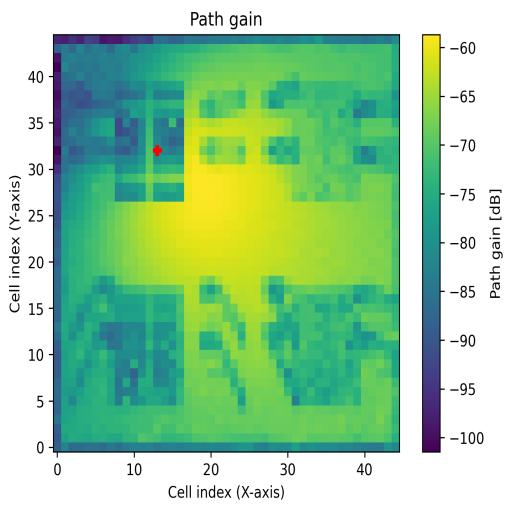Concrete: (283, 82, 362, 201)
Glass: (115, 79, 184, 201)
Metal: (285, 285, 362, 407)
Wood: (107, 285, 185, 406)
